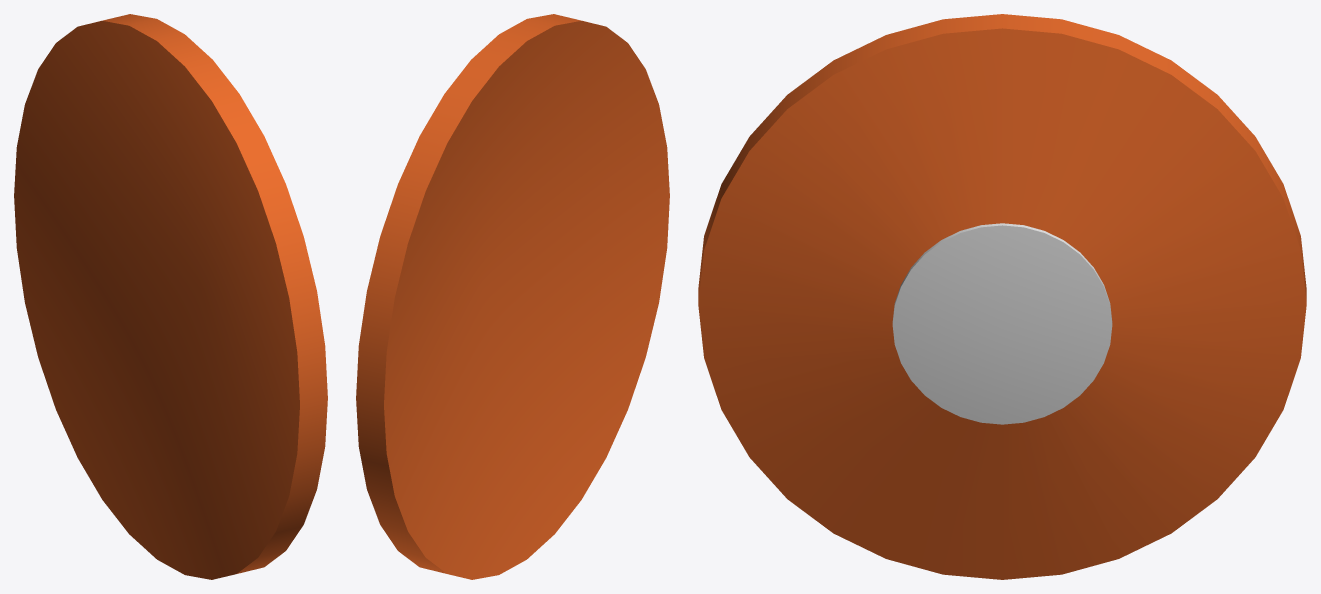
Rendered from shield.fbx.
3 views of the same model, side by side, from view 1: azimuth 30°, elevation 25°; view 2: azimuth 150°, elevation 25°; view 3: azimuth 270°, elevation 25° (orthographic). The views are drawn at different scales.
Visible parts, largest first — view 1: shield; view 2: shield; view 3: shield.
Boxes of the visible parts, x1,y1,x2,y2 form: shield: (14, 14, 327, 579); shield: (356, 14, 669, 579); shield: (698, 14, 1306, 579).
Size of the model in its own units: 452 by 2908 by 2908.
